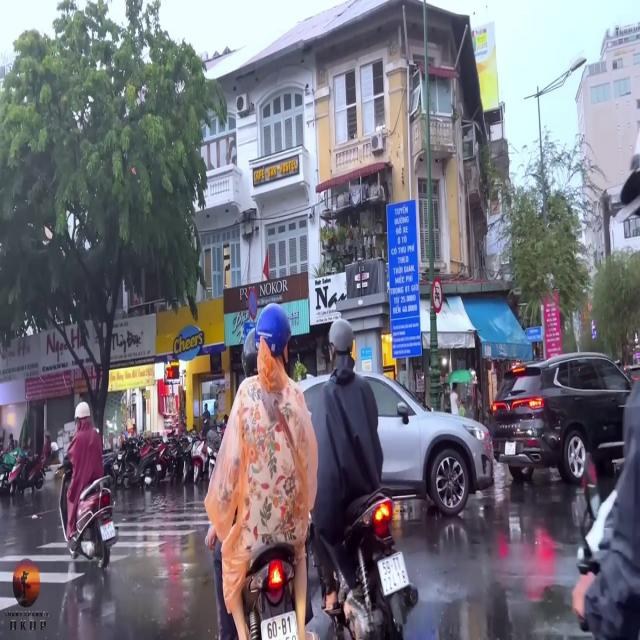bien_trang: (376, 548, 410, 598), (260, 604, 299, 640)
